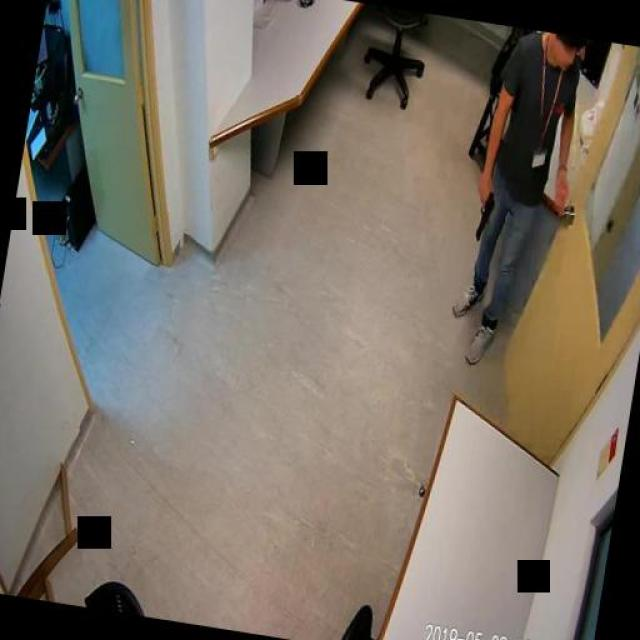gun: (474, 185, 494, 239)
